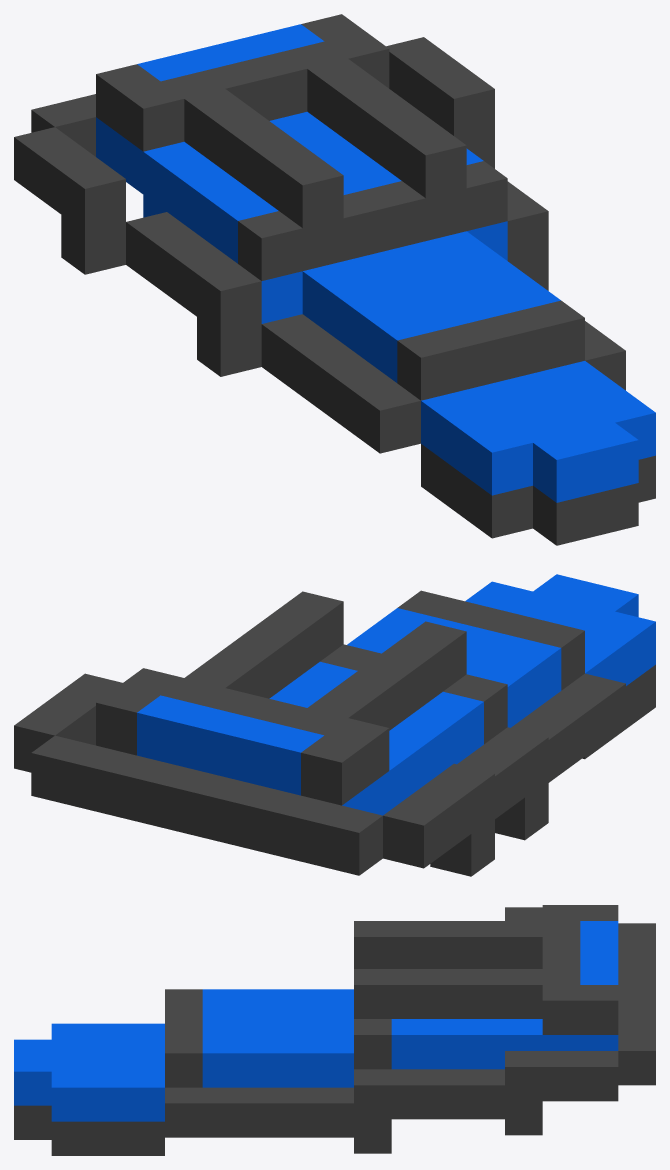
The model's file is Extra-15-Transtellar_Cockpit.obj.
The picture shows the model from 3 angles, top to bottom: view 1: azimuth 30°, elevation 25°; view 2: azimuth 150°, elevation 25°; view 3: azimuth 270°, elevation 25°; orthographic projection. The views are drawn at different scales.
Parts seen in each view (by area): view 1: Transtellar_Cockpit; view 2: Transtellar_Cockpit; view 3: Transtellar_Cockpit.
Part boxes in pixels (bbox=[...]): Transtellar_Cockpit: bbox=[14, 14, 655, 545]; Transtellar_Cockpit: bbox=[14, 574, 655, 876]; Transtellar_Cockpit: bbox=[14, 905, 655, 1155].
Size of the model in its own units: 1 by 0.5 by 1.7.
1 material, 1 textured.
